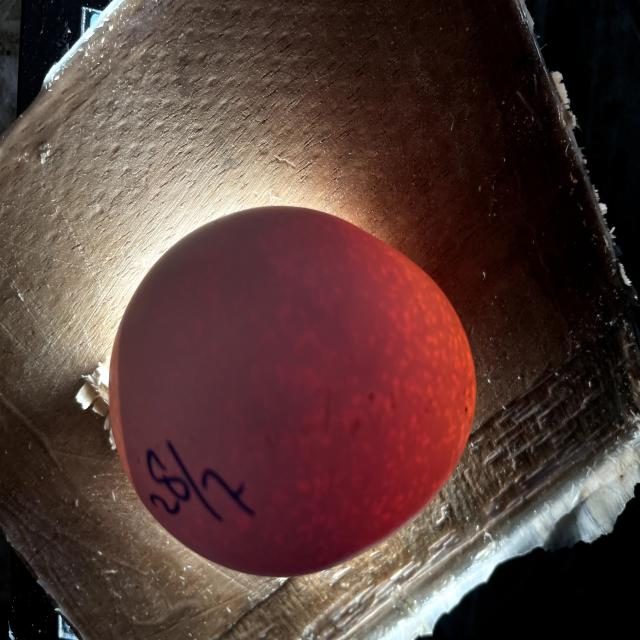fertile: (110, 207, 475, 575)
